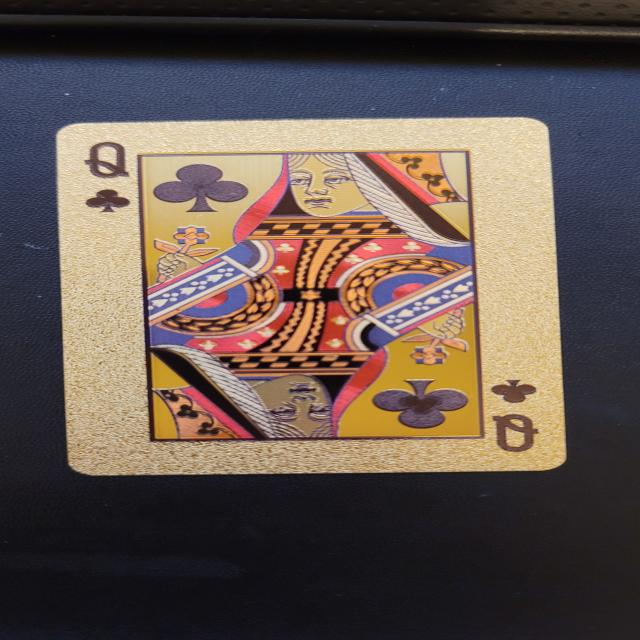Queen of clubs: (56, 118, 568, 476)
